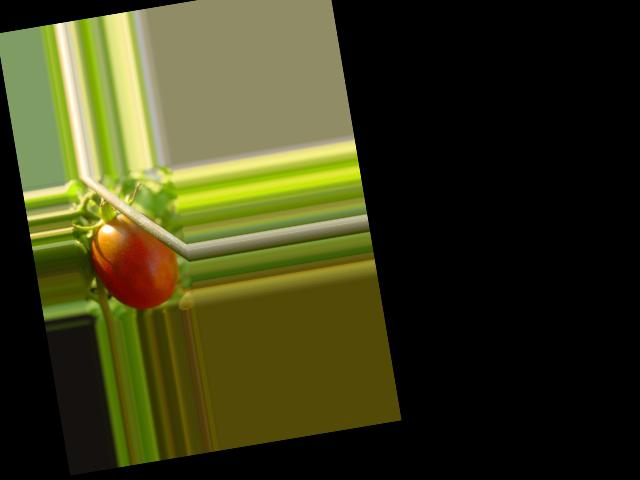tomato: (87, 206, 182, 315)
